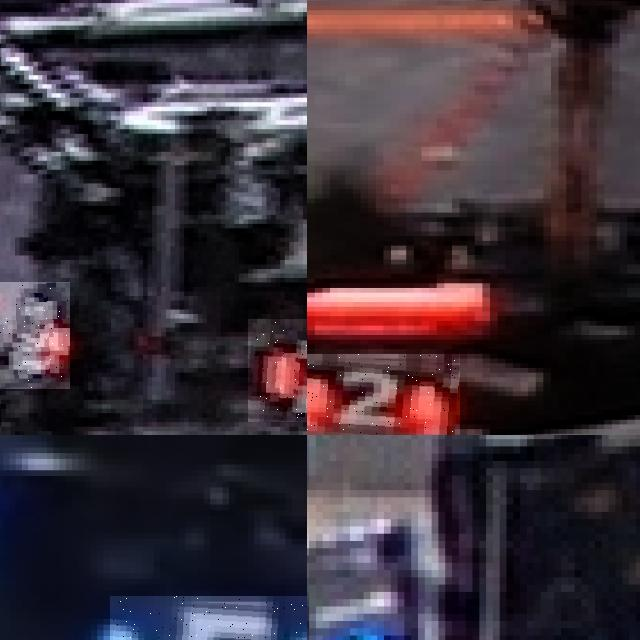B5: (110, 596, 307, 640)
R2: (307, 353, 459, 435), (0, 282, 69, 390), (248, 318, 307, 422)
